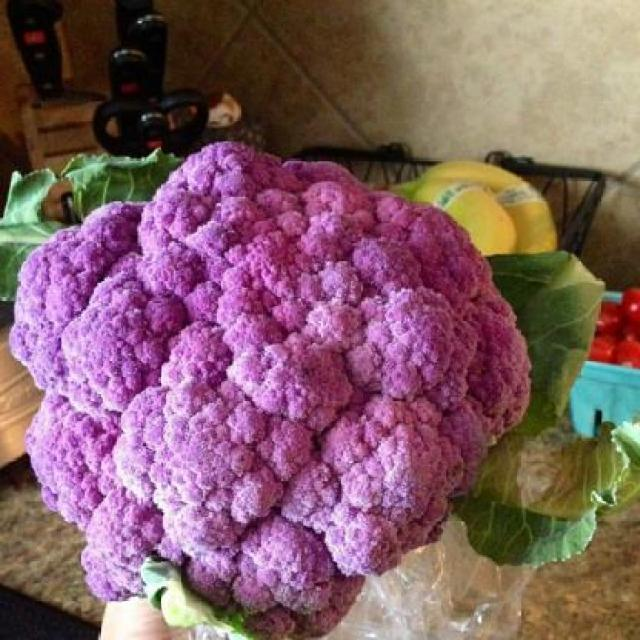Broccoli: (6, 140, 531, 640)
